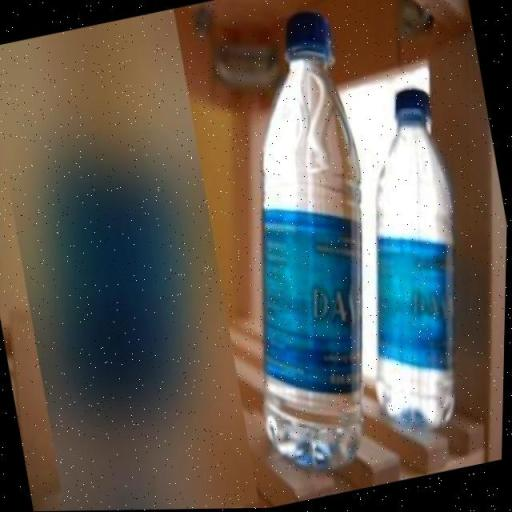plastic: (260, 12, 368, 477), (377, 89, 456, 437)
